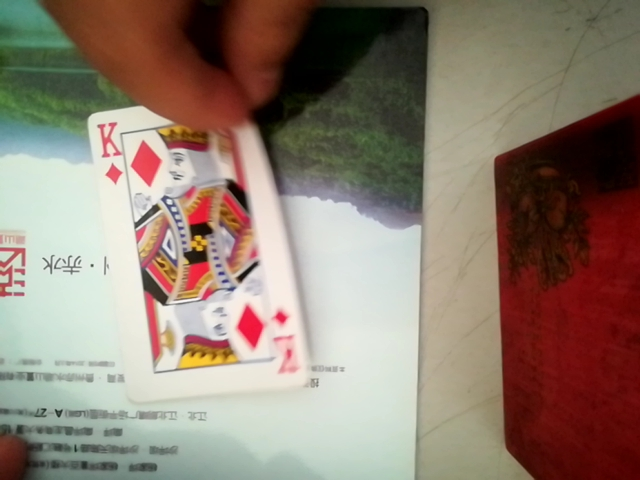fk k: (80, 96, 326, 407)
